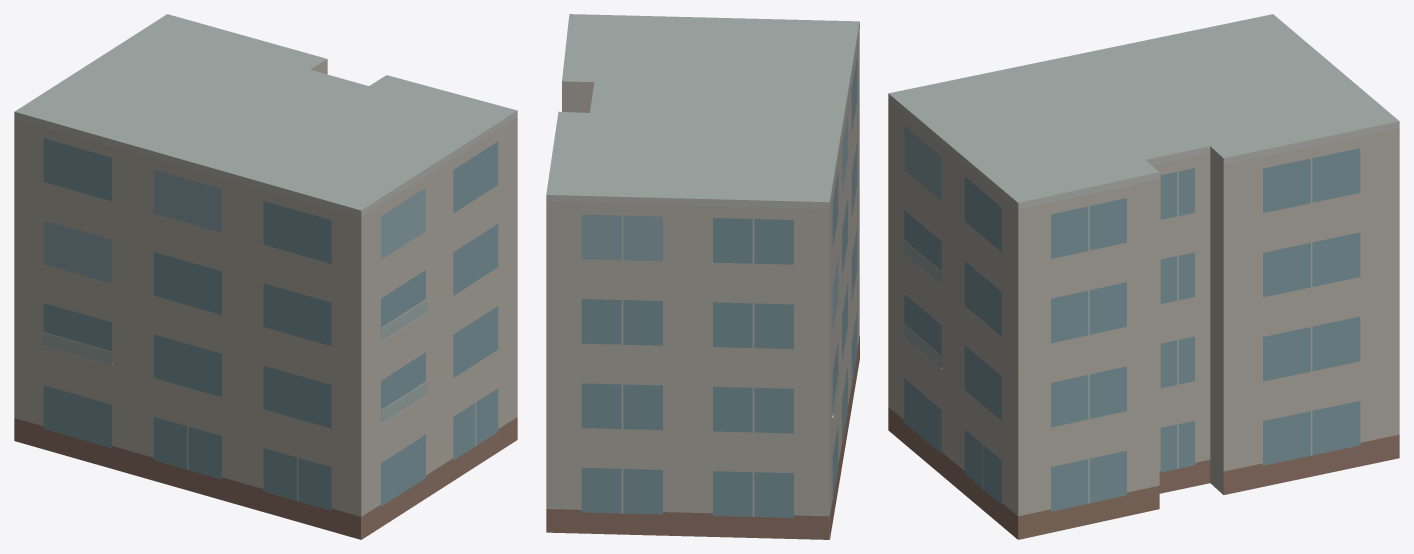
File: survey-upis-32730993.glb
3 views of the same model, side by side, from view 1: azimuth 30°, elevation 25°; view 2: azimuth 150°, elevation 25°; view 3: azimuth 270°, elevation 25° (orthographic). The views are drawn at different scales.
Visible parts, largest first — view 1: survey-upis-32730993.tmp; view 2: survey-upis-32730993.tmp; view 3: survey-upis-32730993.tmp.
Boxes of the visible parts, bbox=[...] form: survey-upis-32730993.tmp: bbox=[14, 14, 517, 539]; survey-upis-32730993.tmp: bbox=[546, 14, 859, 539]; survey-upis-32730993.tmp: bbox=[888, 14, 1399, 539].
Size of the model in its own units: 14.69 by 12.2 by 16.79.
